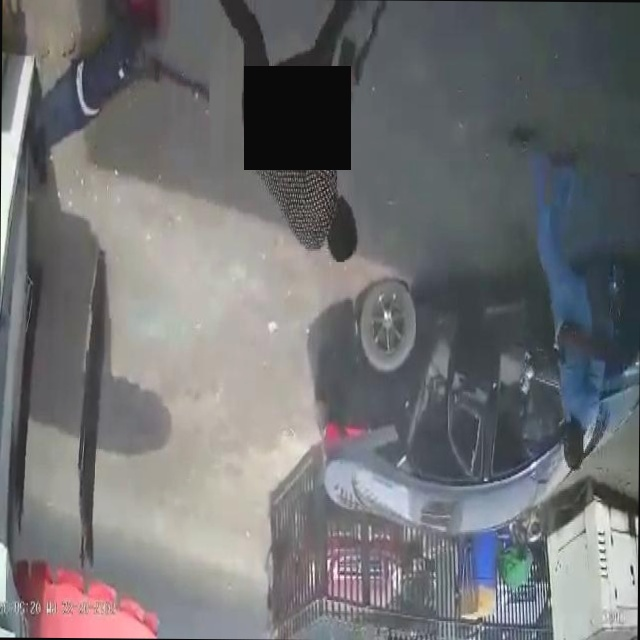gun: (315, 3, 388, 155), (510, 321, 568, 367)
